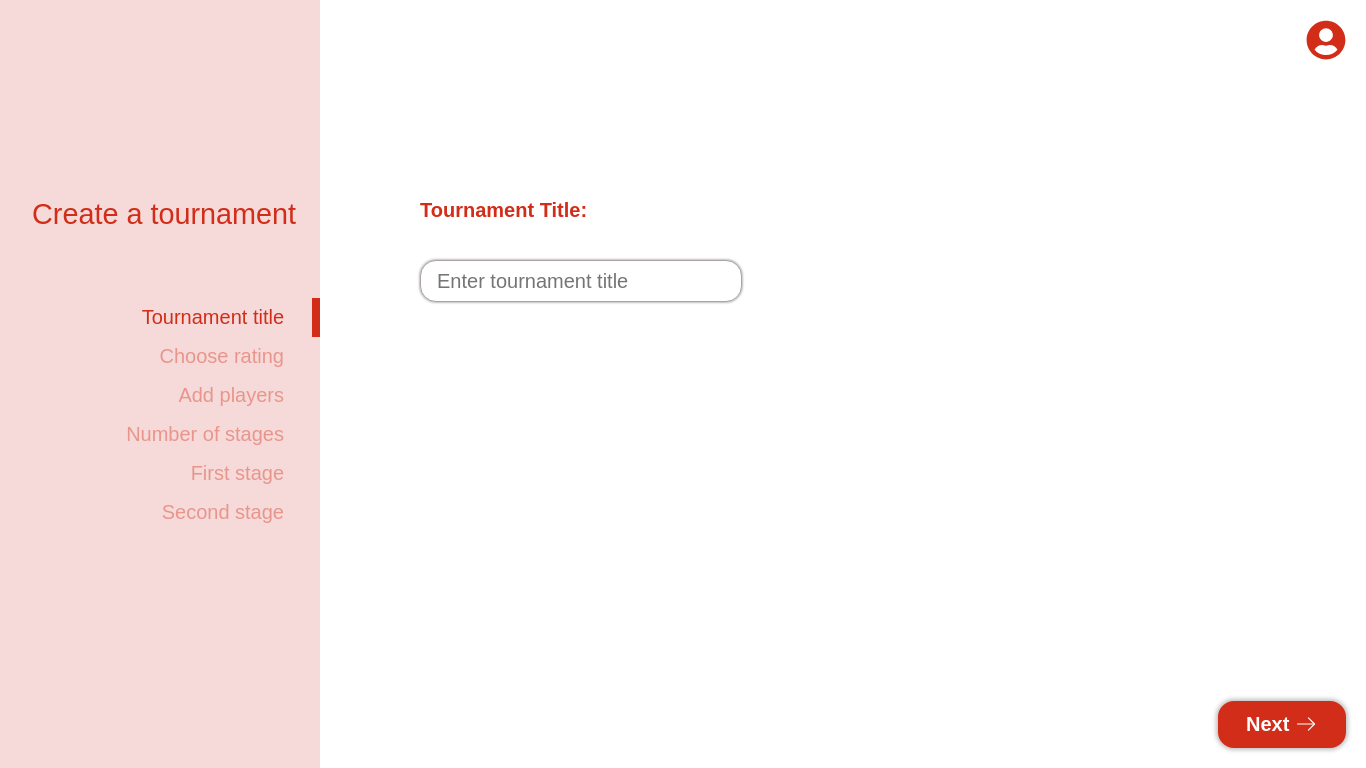
Test case: Third tab
Click the button with test id "add-players-tab" at {"x": 249, "y": 395}, box [178,376,320,415]
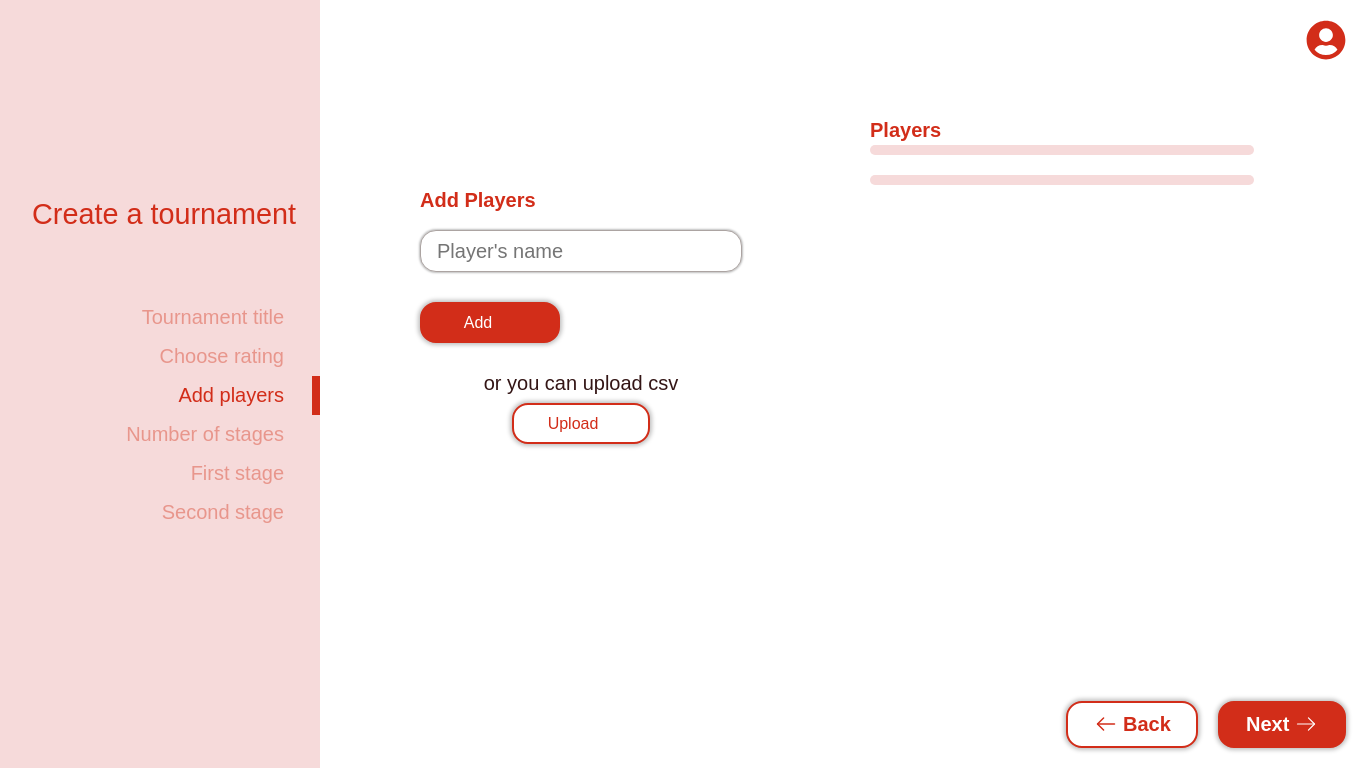
Now the text "Add Players" is shown, box [420,189,536,211]
Now the field with test id "add-players-name-input" is shown, box [420,230,742,272]
Now the element with test id "add-players-button" is shown, box [420,302,560,343]
